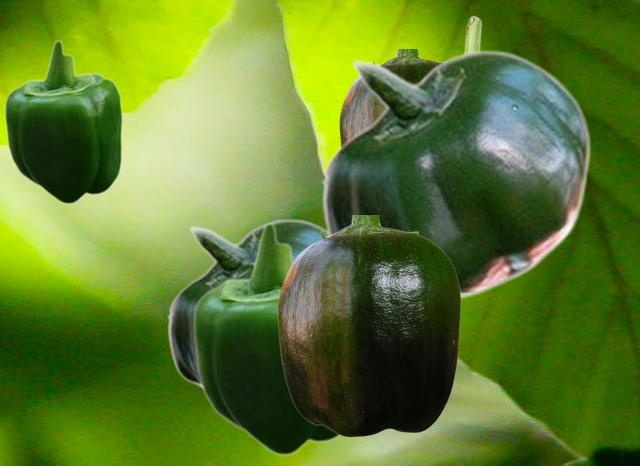bell_pepper: (320, 49, 590, 298), (277, 215, 460, 436), (192, 221, 340, 456), (166, 218, 325, 391), (3, 39, 122, 204), (339, 49, 439, 144), (464, 15, 482, 50)
